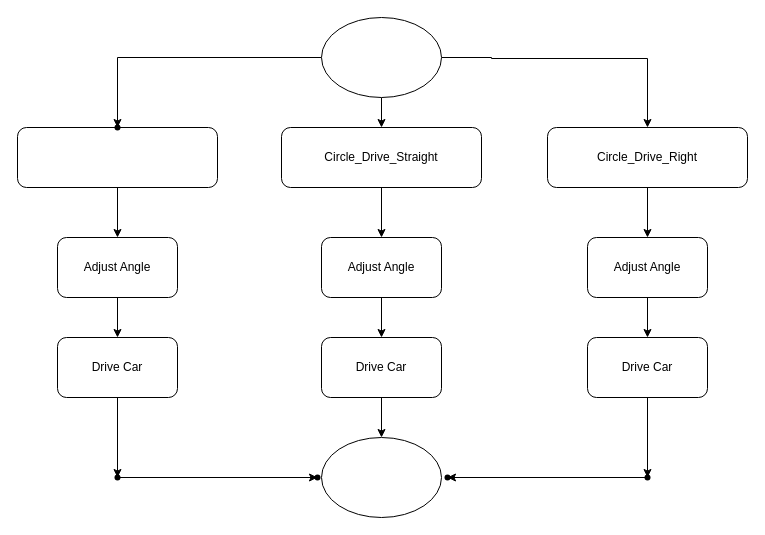
This 765x535 diagram has some shape labels left out. Here are the shapes that lost their labels. From the top down, the box of each, then its label:
(320, 16, 442, 98): start
(16, 126, 218, 188): Circle_Drive_Left
(320, 436, 442, 518): Stop
